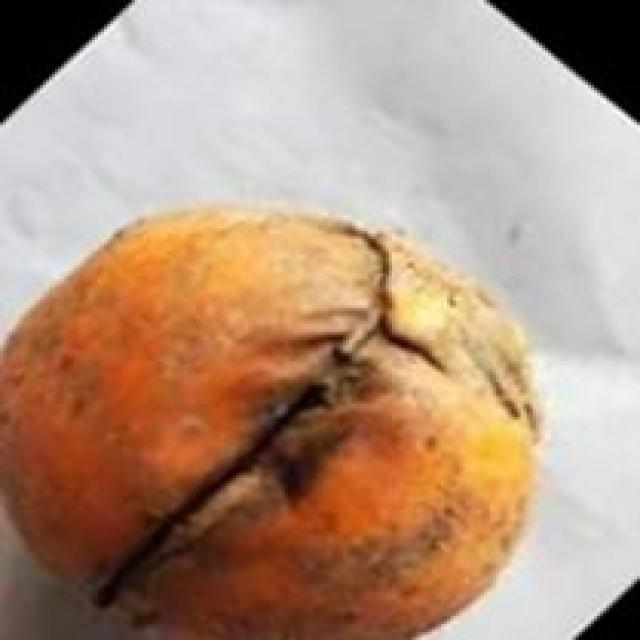damaged: (0, 204, 539, 637)
